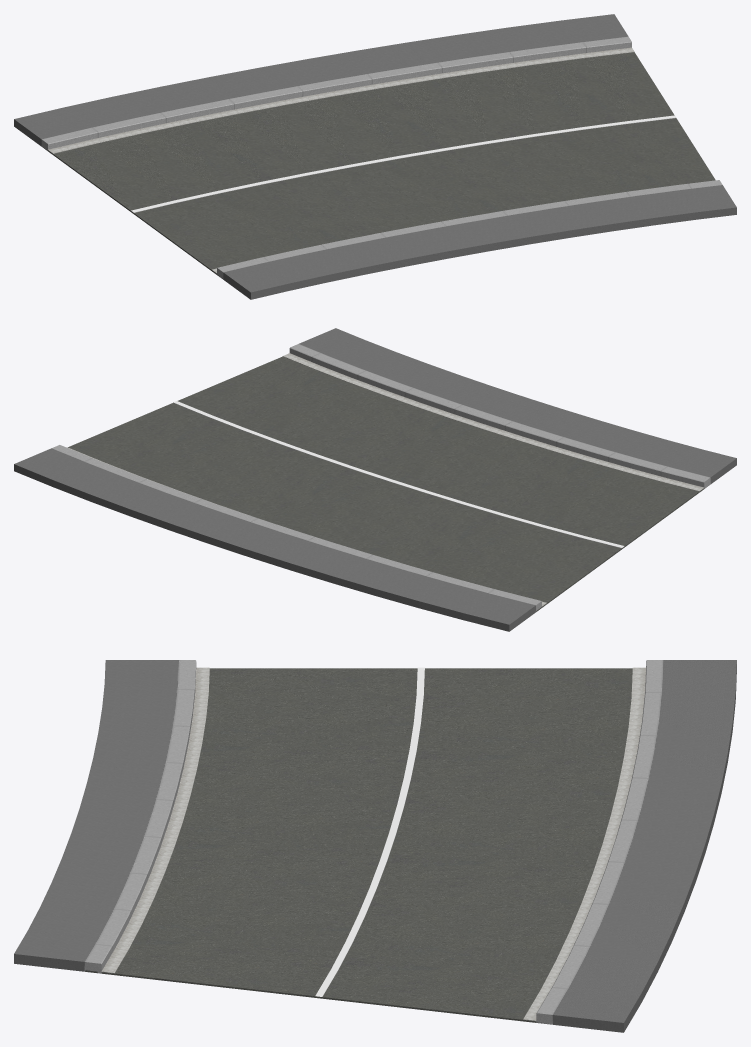
File: routeCourbe2VoiesAvecTrottoirs13m.obj
The picture shows the model from 3 angles, top to bottom: view 1: azimuth 30°, elevation 25°; view 2: azimuth 150°, elevation 25°; view 3: azimuth 270°, elevation 25°; orthographic projection. The views are drawn at different scales.
Parts seen in each view (by area): view 1: roadCourbe2VoiesAvecTrottoirs_Plane.020; view 2: roadCourbe2VoiesAvecTrottoirs_Plane.020; view 3: roadCourbe2VoiesAvecTrottoirs_Plane.020.
Boxes of the visible parts, x1,y1,x2,y2 form: roadCourbe2VoiesAvecTrottoirs_Plane.020: (14,14,736,299); roadCourbe2VoiesAvecTrottoirs_Plane.020: (14,328,736,631); roadCourbe2VoiesAvecTrottoirs_Plane.020: (14,660,736,1032).
Size of the model in its own units: 1421 by 18 by 1197.
